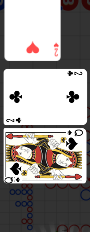2C: (67, 69, 84, 77)
QS: (58, 119, 82, 145), (4, 153, 28, 179)
